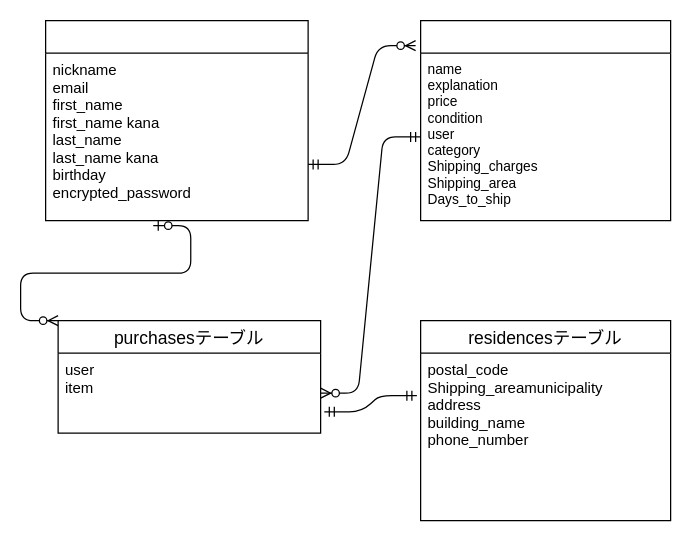
Some shapes in this 691 by 541 pixel diagram are drawn without their labels. The box of each missing label's shape, as (x1, y1, x2, y2) in pixels:
itemsテーブル: (419, 19, 671, 221)
usersテーブル: (44, 19, 308, 221)
